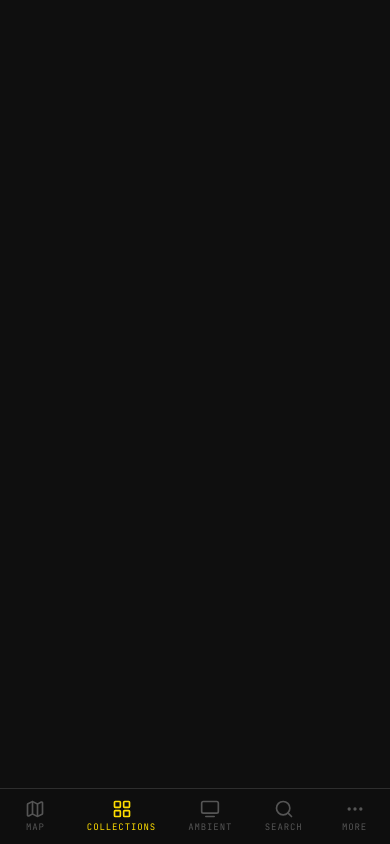
Scenario: AppNav › Home is hidden until More sheet opens
Expected: the link "Home" is not shown
// Open More
Click the button with aria-label "more options": (355,816) [319, 794, 389, 838]
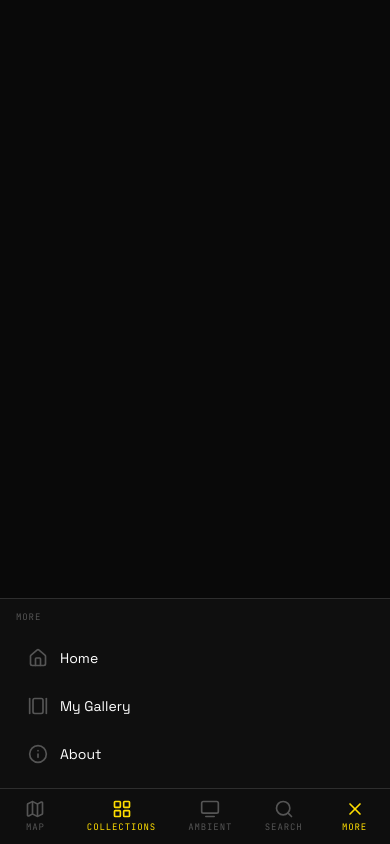
Expected: the link "Home" is shown, [28, 648, 98, 668]
